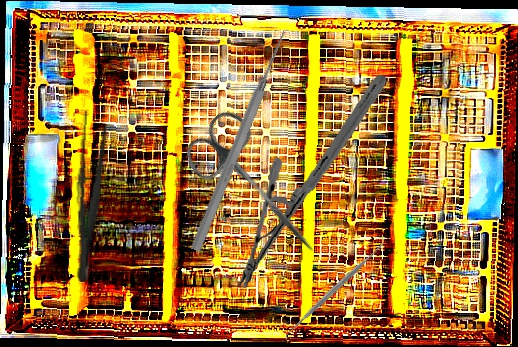Dressing Forceps: (68, 110, 109, 284)
Iris Scissors: (177, 104, 341, 273)
Needle Holder: (237, 64, 387, 299)
Pusher: (188, 28, 292, 254)
Spatula Surgical: (277, 234, 393, 343)
